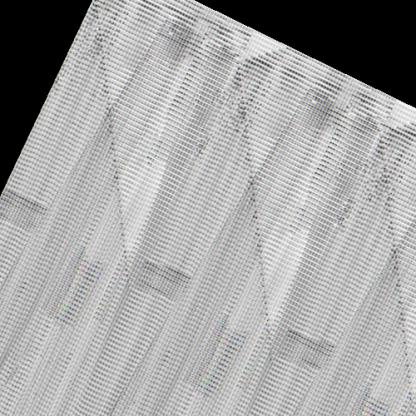Damage: (110, 35, 280, 189)
